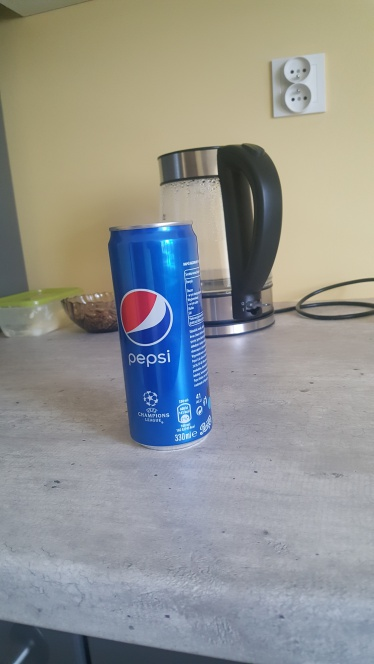pepsi: (104, 220, 216, 455)
